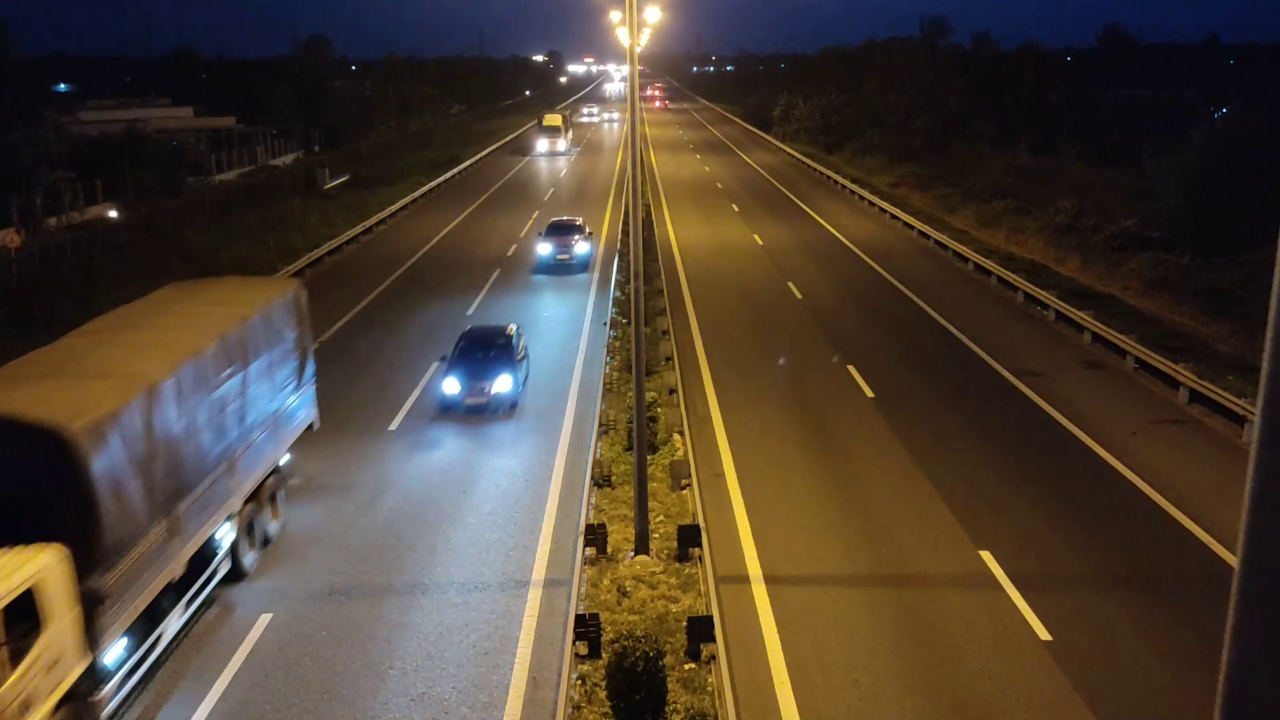car: (435, 323, 532, 417), (531, 215, 595, 274)
truck: (1, 273, 322, 713)
